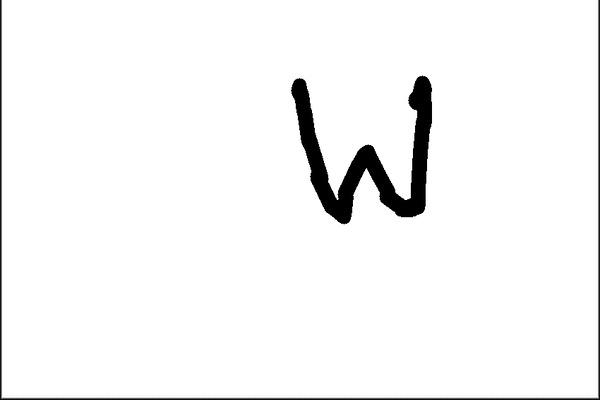w: (268, 69, 452, 246)
